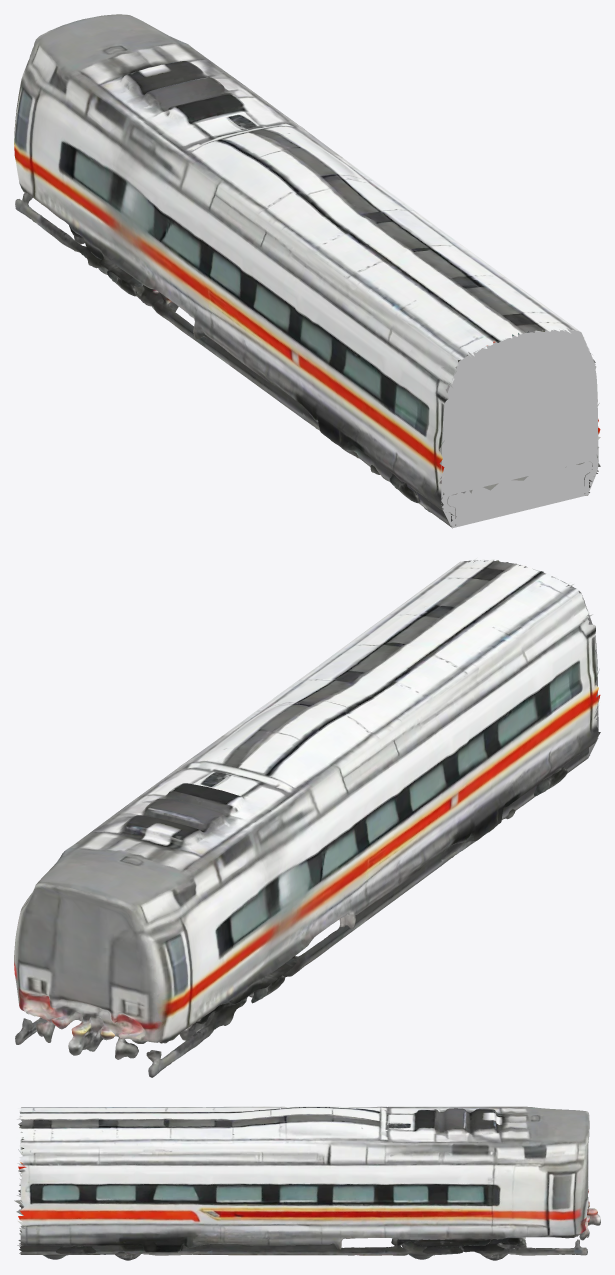
File: tr-ice-mid.glb
3 renders of one model, top to bottom at view 1: azimuth 30°, elevation 25°; view 2: azimuth 150°, elevation 25°; view 3: azimuth 270°, elevation 25°, orthographic. The views are drawn at different scales.
Parts seen in each view (by area): view 1: mid, gangway; view 2: mid; view 3: mid.
Part boxes in pixels (bbox=[...]): mid: bbox=[14, 14, 600, 528]; gangway: bbox=[441, 329, 598, 527]; mid: bbox=[14, 557, 600, 1077]; mid: bbox=[14, 1106, 600, 1260].
Size of the model in its own units: 0.2964 by 0.3423 by 1.38.
2 materials, 1 textured.
